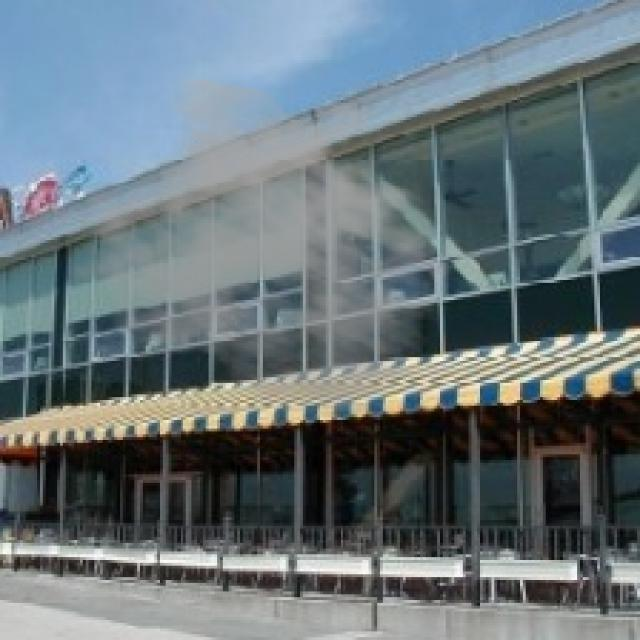Smoke: (66, 74, 483, 420)
